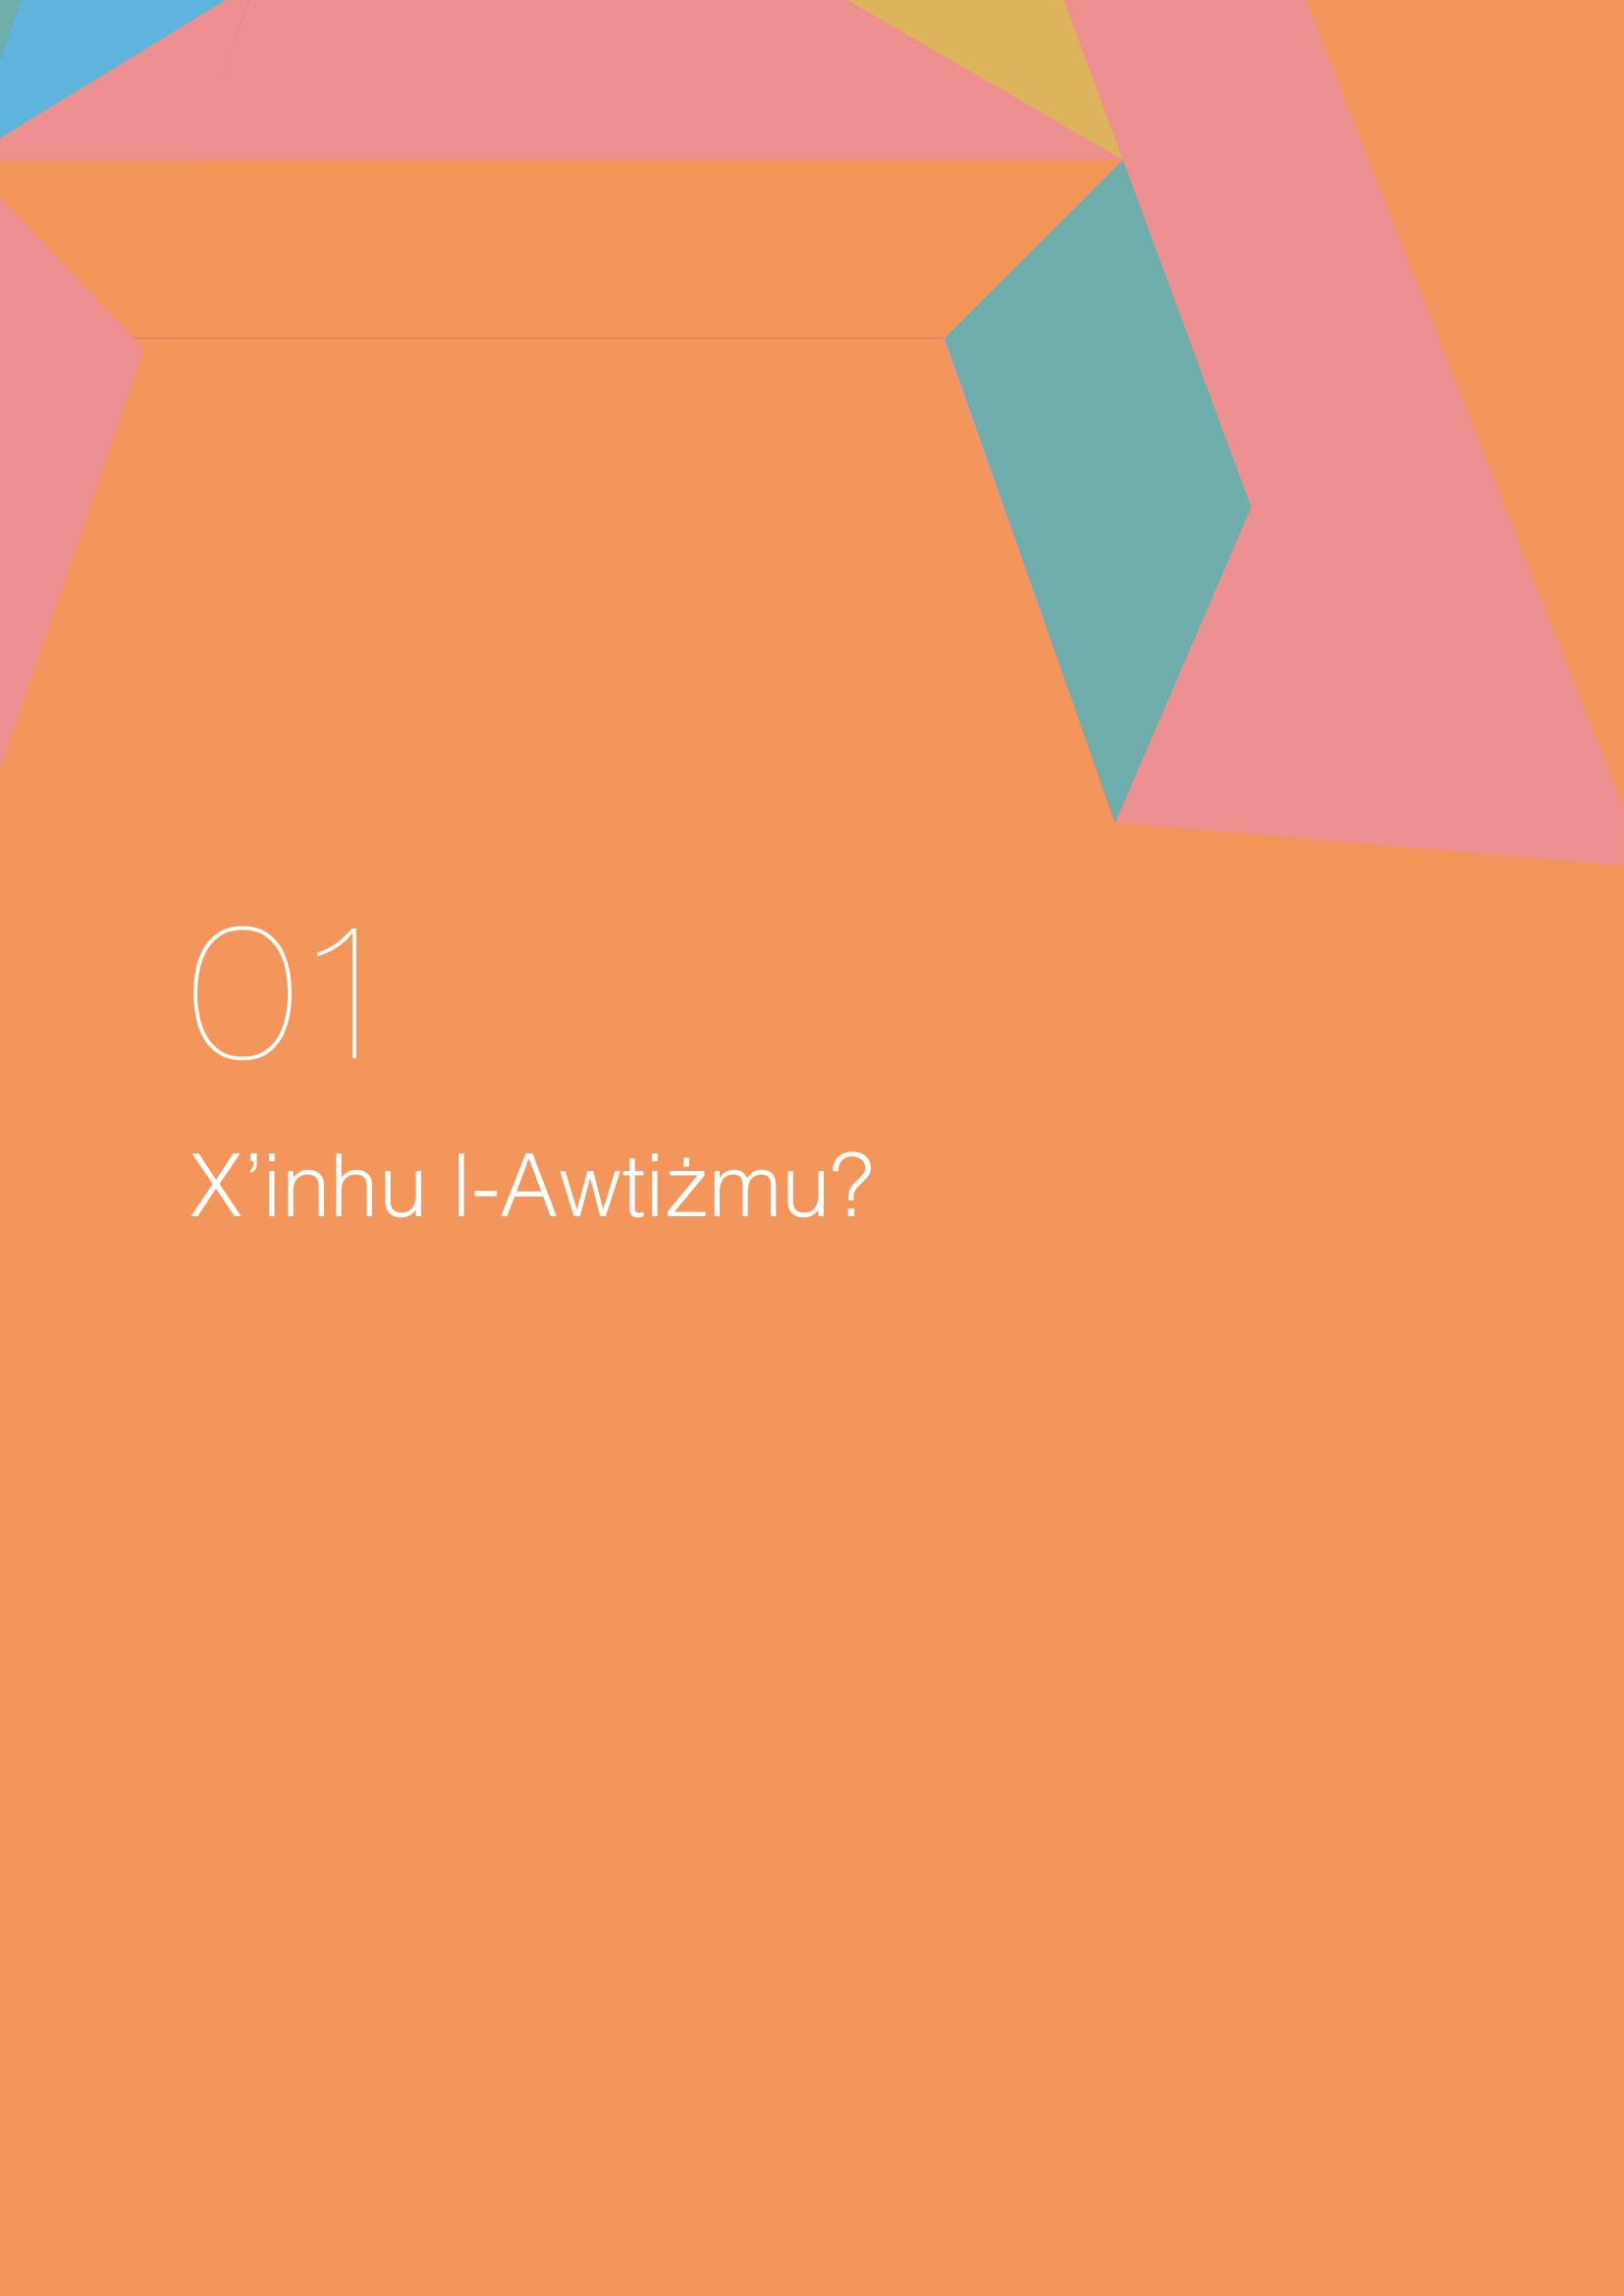text: (146, 908, 891, 1267)
